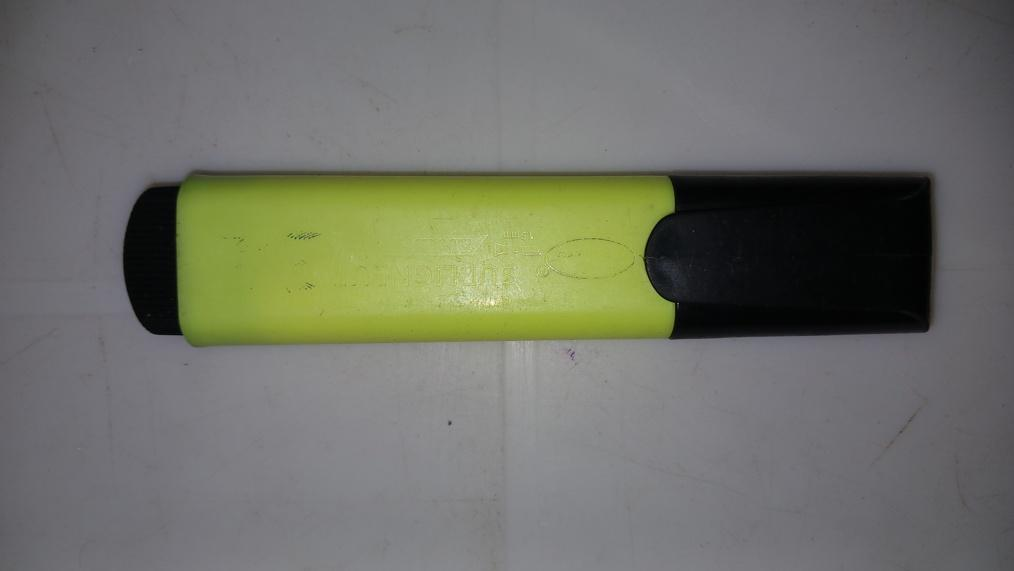Highlighter: (119, 172, 935, 350)
